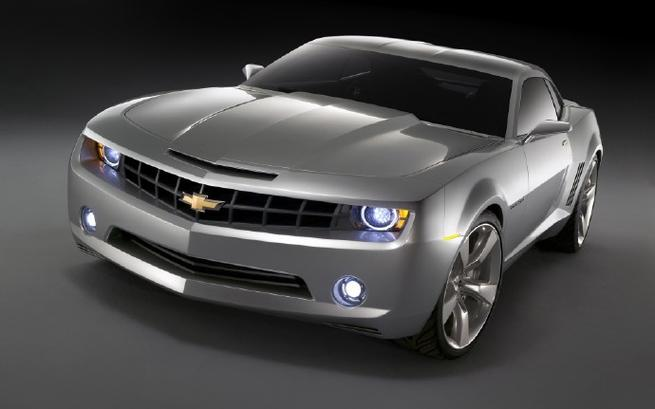汽车: (59, 30, 609, 360)
